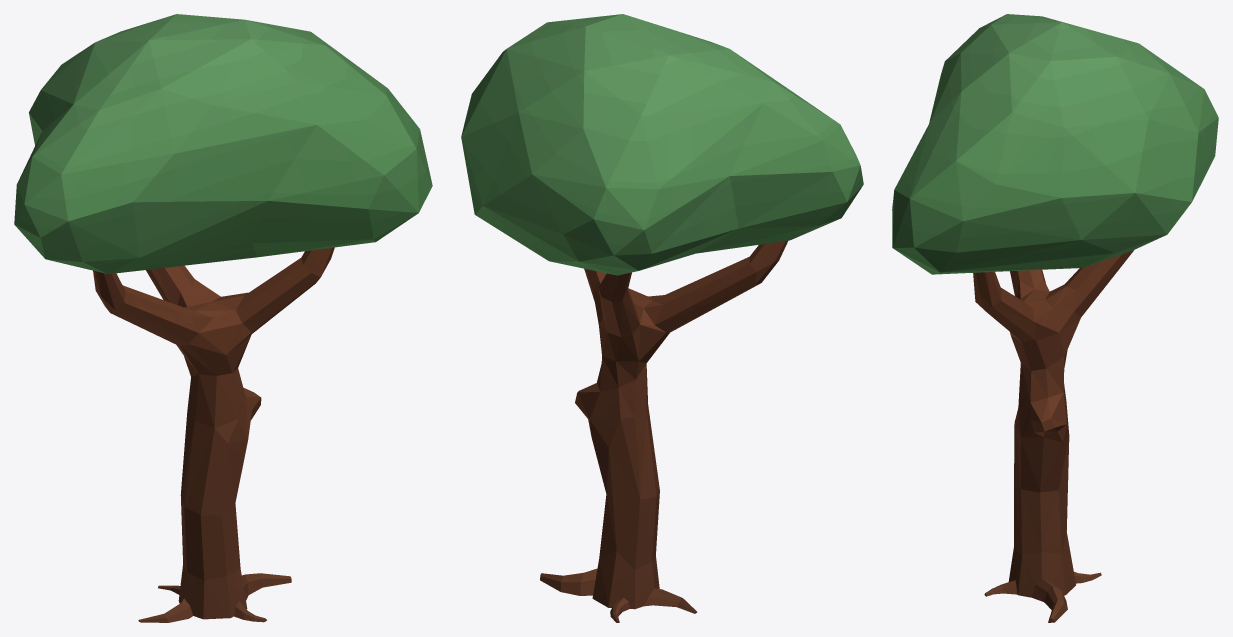
The model's file is arvore_b.glb.
The picture shows the model from 3 angles, left to right: view 1: azimuth 30°, elevation 25°; view 2: azimuth 150°, elevation 25°; view 3: azimuth 270°, elevation 25°; orthographic projection. The views are drawn at different scales.
Visible parts, largest first — view 1: GenericTreeB; view 2: GenericTreeB; view 3: GenericTreeB.
Part boxes in pixels (left/top/right/bottom): GenericTreeB: left=14, top=14, right=432, bottom=622; GenericTreeB: left=461, top=14, right=863, bottom=622; GenericTreeB: left=892, top=14, right=1218, bottom=622.
Size of the model in its own units: 3.84 by 5.55 by 3.04.
1 material, 1 textured.
